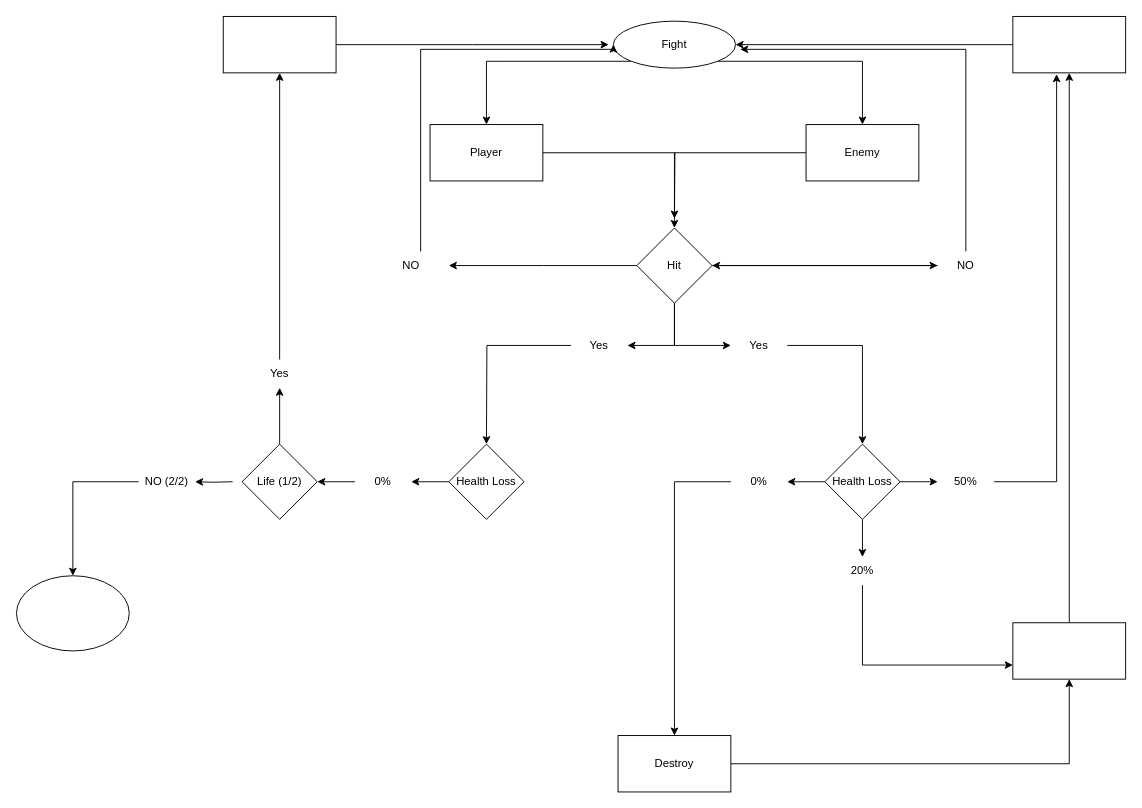
This 1142x808 diagram has some shape labels left out. The box of each missing label's shape, as (x1, y1, x2, y2) in pixels:
Drop: (1012, 622, 1126, 679)
Game Over: (16, 575, 129, 651)
Instant Respawn: (222, 16, 336, 73)
Run: (1012, 16, 1126, 73)
